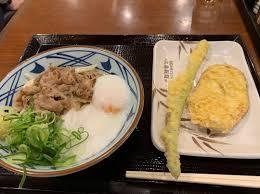satumaimo: (198, 66, 249, 130)
